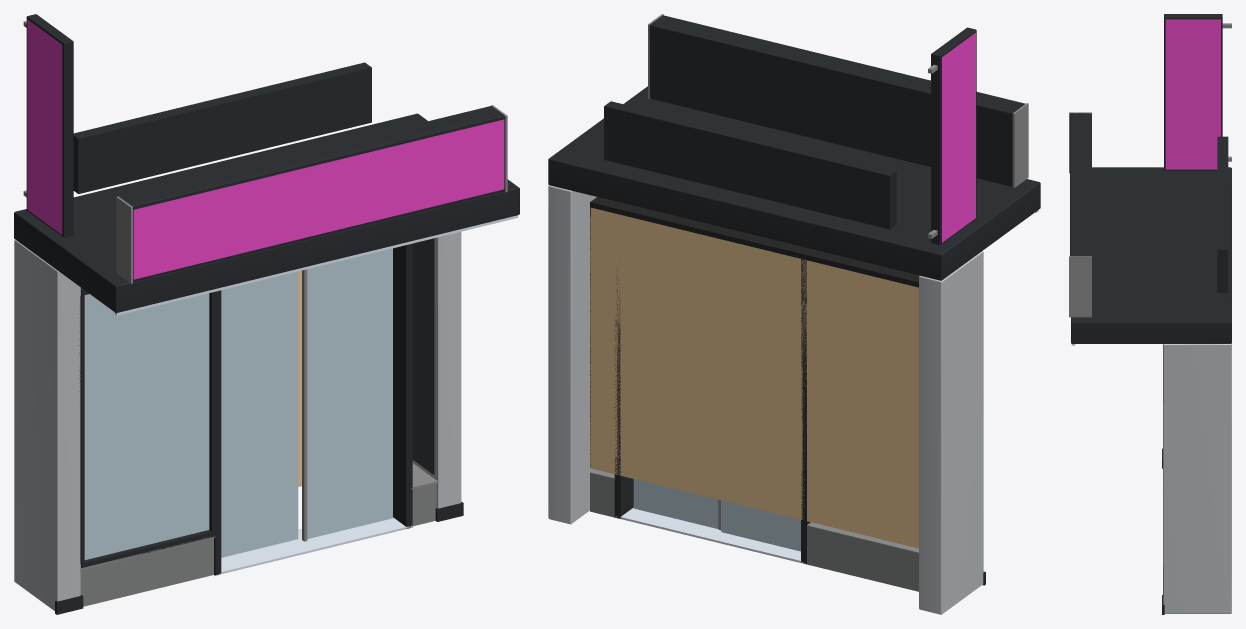
Rendered from St_Shop_Capsule_B.fbx.
3 views of the same model, side by side, from view 1: azimuth 30°, elevation 25°; view 2: azimuth 150°, elevation 25°; view 3: azimuth 270°, elevation 25° (orthographic). The views are drawn at different scales.
Parts seen in each view (by area): view 1: St_Shop_Capsule_B_LOD0; view 2: St_Shop_Capsule_B_LOD0; view 3: St_Shop_Capsule_B_LOD0.
Part boxes in pixels (x1=…): St_Shop_Capsule_B_LOD0: x1=14, y1=14, x2=519, y2=614; St_Shop_Capsule_B_LOD0: x1=548, y1=14, x2=1040, y2=614; St_Shop_Capsule_B_LOD0: x1=1069, y1=14, x2=1231, y2=614.
Size of what is drawn, in the model's own units: 4.02 by 5.37 by 1.77.
